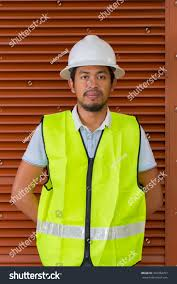Person_wearing_helmet: (47, 30, 131, 86)
